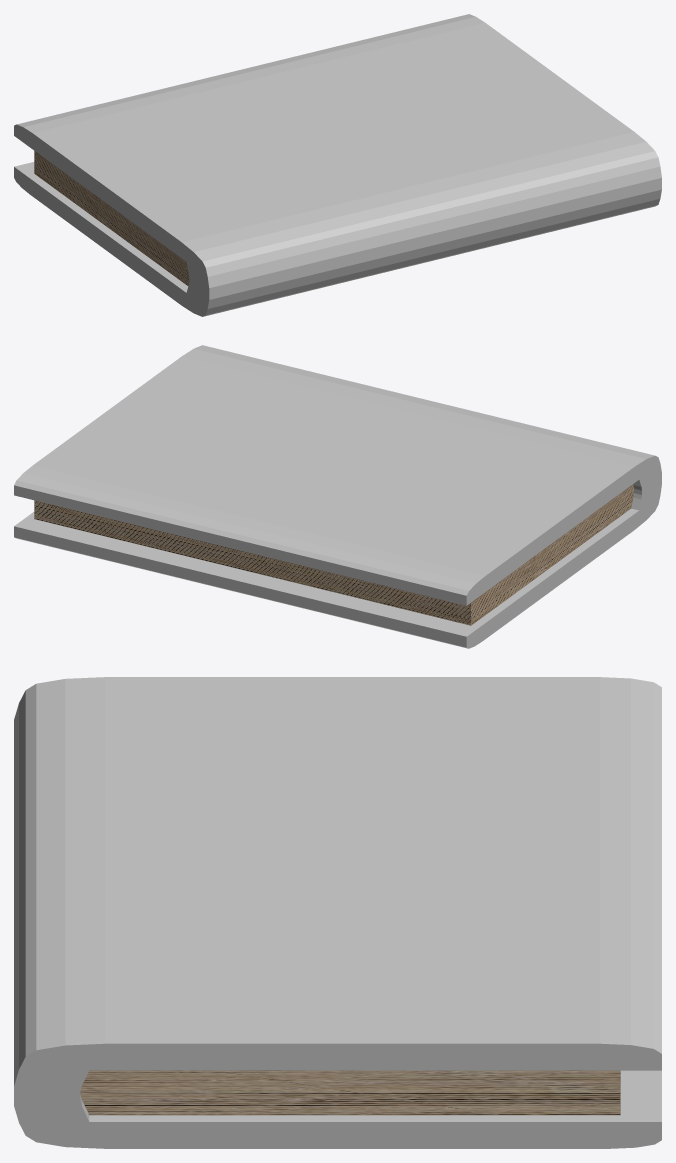
File: libro_cuero.fbx
3 views of the same model, one above another, from view 1: azimuth 30°, elevation 25°; view 2: azimuth 150°, elevation 25°; view 3: azimuth 270°, elevation 25° (orthographic). The views are drawn at different scales.
Parts seen in each view (by area): view 1: Libro_cuero; view 2: Libro_cuero; view 3: Libro_cuero.
Boxes of the visible parts, x1,y1,x2,y2 form: Libro_cuero: [14, 14, 661, 316]; Libro_cuero: [14, 345, 661, 648]; Libro_cuero: [14, 677, 661, 1148].
Bounding box in the file's own units: 29.13 × 3.9 × 21.76.
